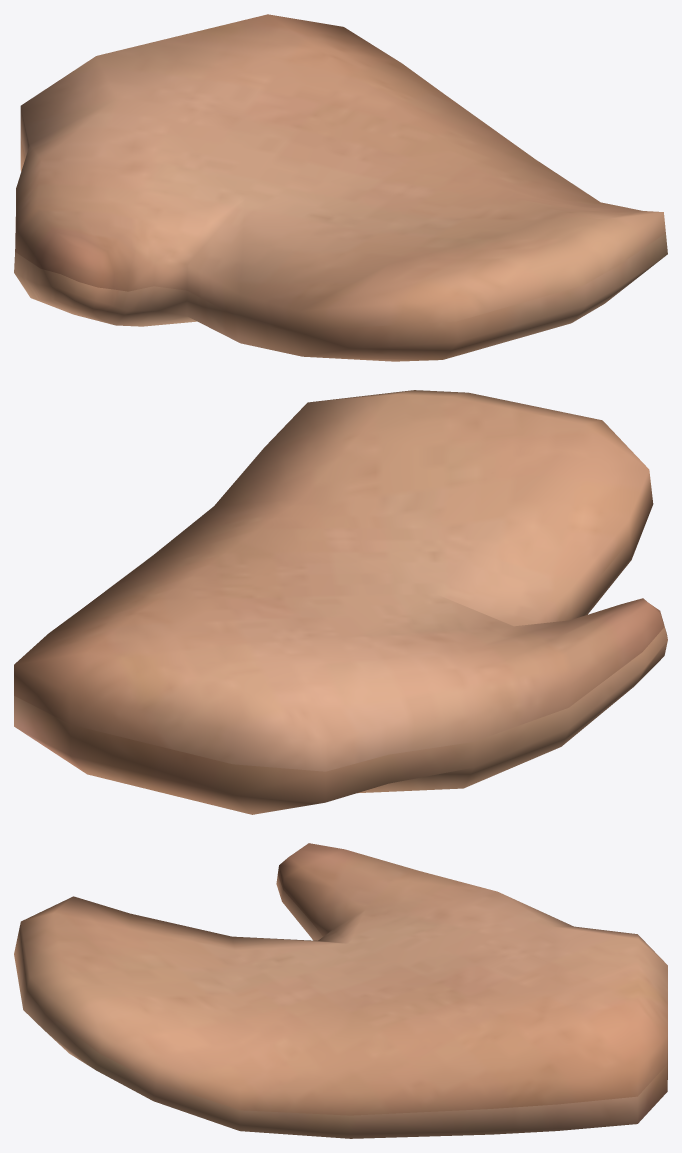
The model's file is SimpleHandL.obj.
3 renders of one model, top to bottom at view 1: azimuth 30°, elevation 25°; view 2: azimuth 150°, elevation 25°; view 3: azimuth 270°, elevation 25°, orthographic. The views are drawn at different scales.
Visible parts, largest first — view 1: Hand_Mesh_L; view 2: Hand_Mesh_L; view 3: Hand_Mesh_L.
Part boxes in pixels (x1,y1,x2,y2): Hand_Mesh_L: [14, 14, 667, 361]; Hand_Mesh_L: [14, 390, 667, 814]; Hand_Mesh_L: [14, 843, 667, 1138].
Bounding box in the file's own units: 0.3653 × 0.115 × 0.4765.
